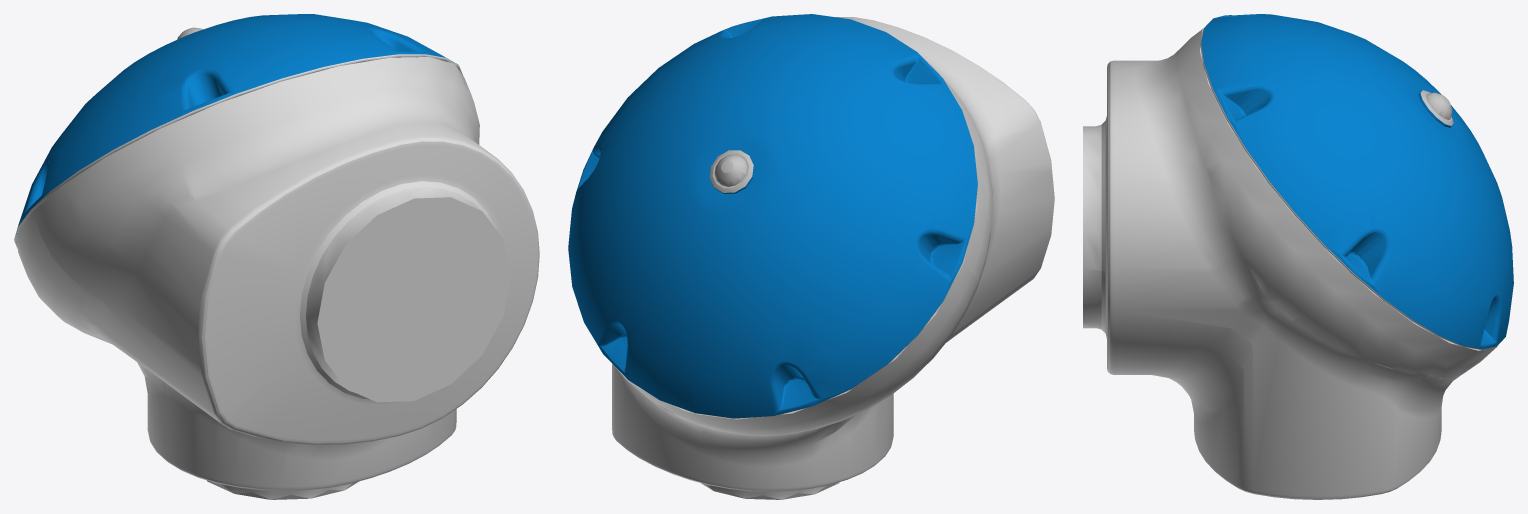
The picture shows the model from 3 angles, left to right: view 1: azimuth 30°, elevation 25°; view 2: azimuth 150°, elevation 25°; view 3: azimuth 270°, elevation 25°; orthographic projection. The views are drawn at different scales.
Parts seen in each view (by area): view 1: Link 3 U; view 2: Link 3 U; view 3: Link 3 U.
Part boxes in pixels (x1,y1,x2,y2): Link 3 U: [14, 14, 539, 499]; Link 3 U: [568, 14, 1054, 499]; Link 3 U: [1083, 14, 1513, 499].
Size of the model in its own units: 0.2 by 0.1982 by 0.2087.
